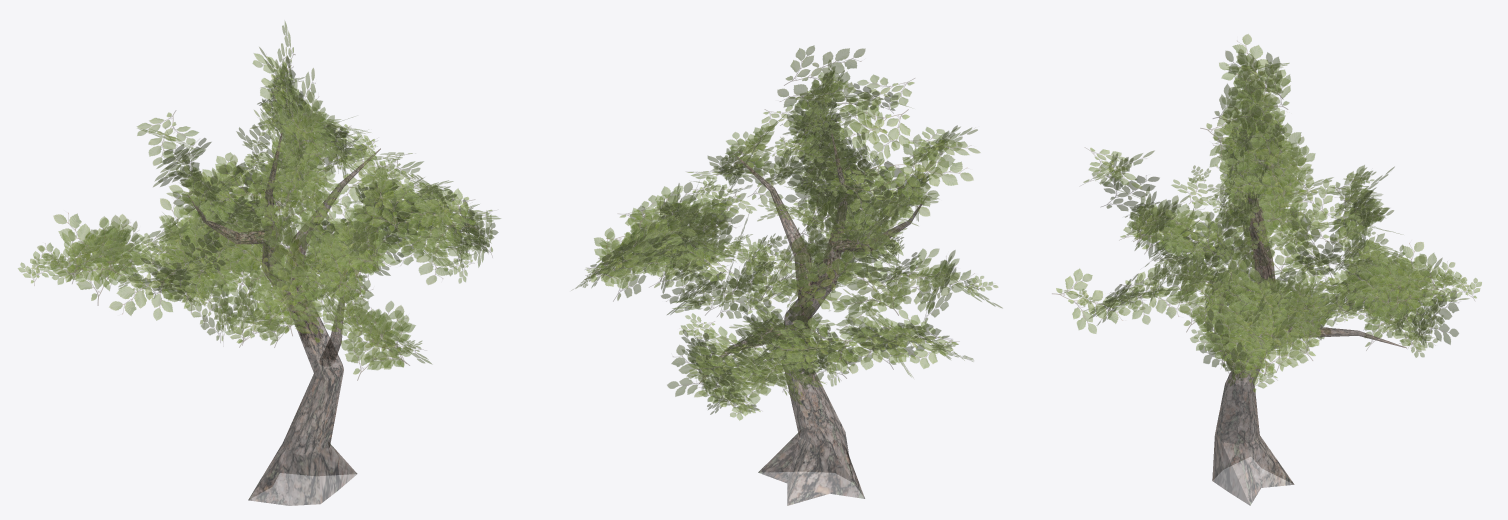
The model's file is tree1.obj.
3 renders of one model, left to right at view 1: azimuth 30°, elevation 25°; view 2: azimuth 150°, elevation 25°; view 3: azimuth 270°, elevation 25°, orthographic. The views are drawn at different scales.
Parts seen in each view (by area): view 1: Circle; view 2: Circle; view 3: Circle.
Boxes of the visible parts, bbox=[...] form: Circle: bbox=[18, 21, 500, 505]; Circle: bbox=[573, 45, 1002, 505]; Circle: bbox=[1052, 34, 1481, 505].
Bounding box in the file's own units: 1.75 × 1.84 × 1.65.
2 materials, 2 textured.
